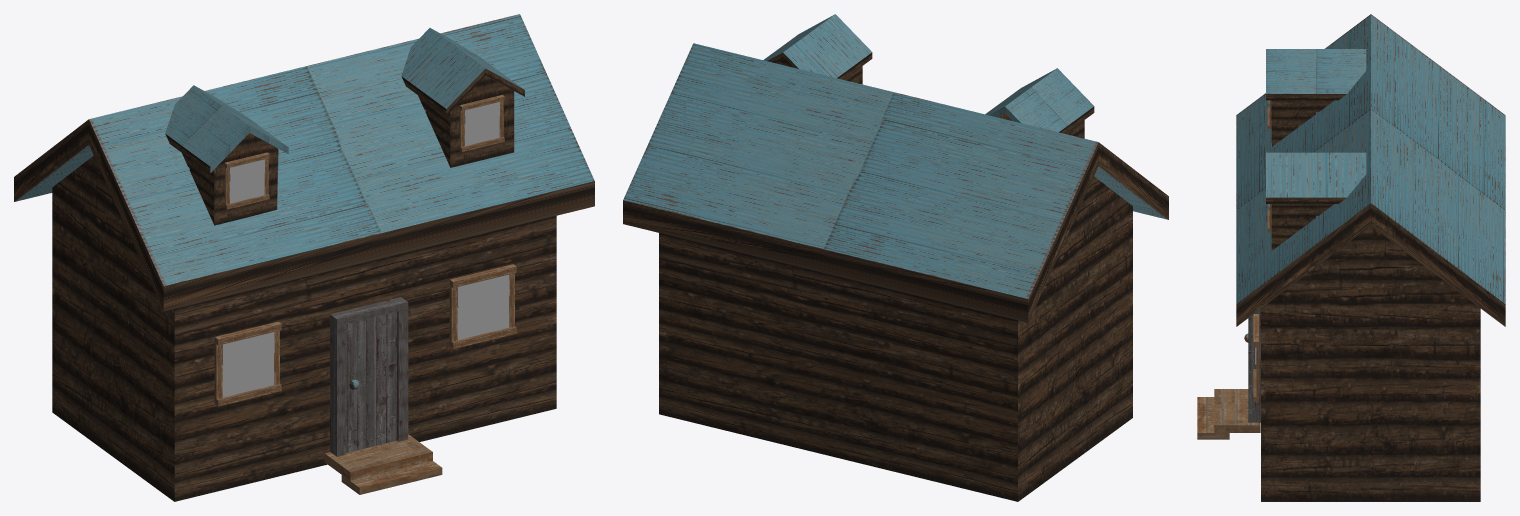
File: SPOILER_House.fbx
3 renders of one model, left to right at view 1: azimuth 30°, elevation 25°; view 2: azimuth 150°, elevation 25°; view 3: azimuth 270°, elevation 25°, orthographic. The views are drawn at different scales.
Parts seen in each view (by area): view 1: House; view 2: House; view 3: House.
Boxes of the visible parts, box(x1,y1,x2,y2) form: House: box(14, 14, 594, 501); House: box(623, 14, 1168, 501); House: box(1197, 14, 1505, 501).
Bounding box in the file's own units: 400 × 318 × 275.
2 materials, 1 textured.
